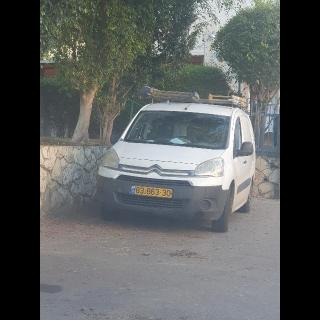LicensePlate: (135, 186, 172, 198)
